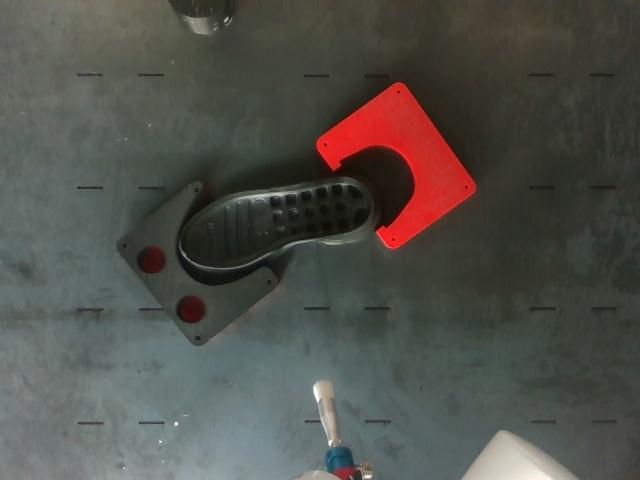shoes: (181, 179, 371, 268)
